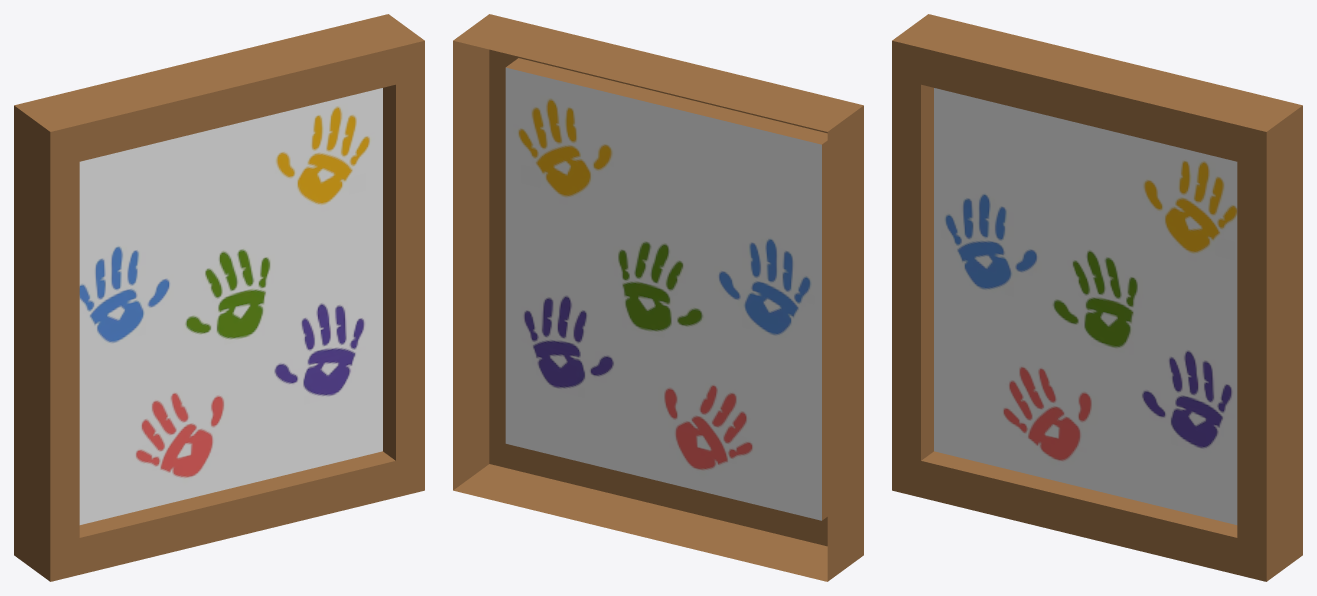
File: Hands paitning.fbx
3 renders of one model, left to right at view 1: azimuth 30°, elevation 25°; view 2: azimuth 150°, elevation 25°; view 3: azimuth 330°, elevation 25°, orthographic.
Parts seen in each view (by area): view 1: Hands paitning; view 2: Hands paitning; view 3: Hands paitning.
Boxes of the visible parts, box(x1,y1,x2,y2) form: Hands paitning: box(14, 14, 424, 581); Hands paitning: box(453, 14, 863, 581); Hands paitning: box(892, 14, 1302, 581).
Bounding box in the file's own units: 34.69 × 39.83 × 5.85.
